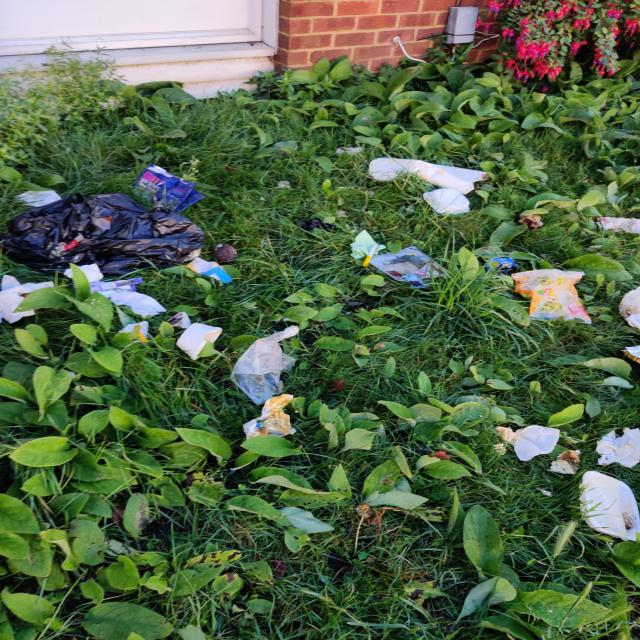litter: (0, 192, 207, 277), (230, 325, 302, 406), (509, 268, 594, 325), (577, 470, 636, 543), (127, 163, 208, 213), (363, 244, 456, 283), (405, 159, 491, 195), (0, 274, 54, 324), (242, 394, 297, 440), (504, 424, 562, 461), (593, 427, 636, 470), (176, 322, 223, 361), (110, 292, 167, 319), (421, 187, 471, 216), (349, 229, 390, 264), (185, 257, 234, 284), (367, 157, 419, 182), (89, 277, 144, 298), (546, 448, 582, 475), (62, 262, 106, 283), (13, 190, 62, 208), (594, 217, 639, 235), (484, 256, 522, 273), (116, 321, 148, 341), (400, 273, 433, 289), (361, 242, 381, 267), (166, 312, 192, 330), (493, 425, 518, 443), (336, 147, 363, 156), (535, 486, 553, 498), (491, 443, 507, 456)
